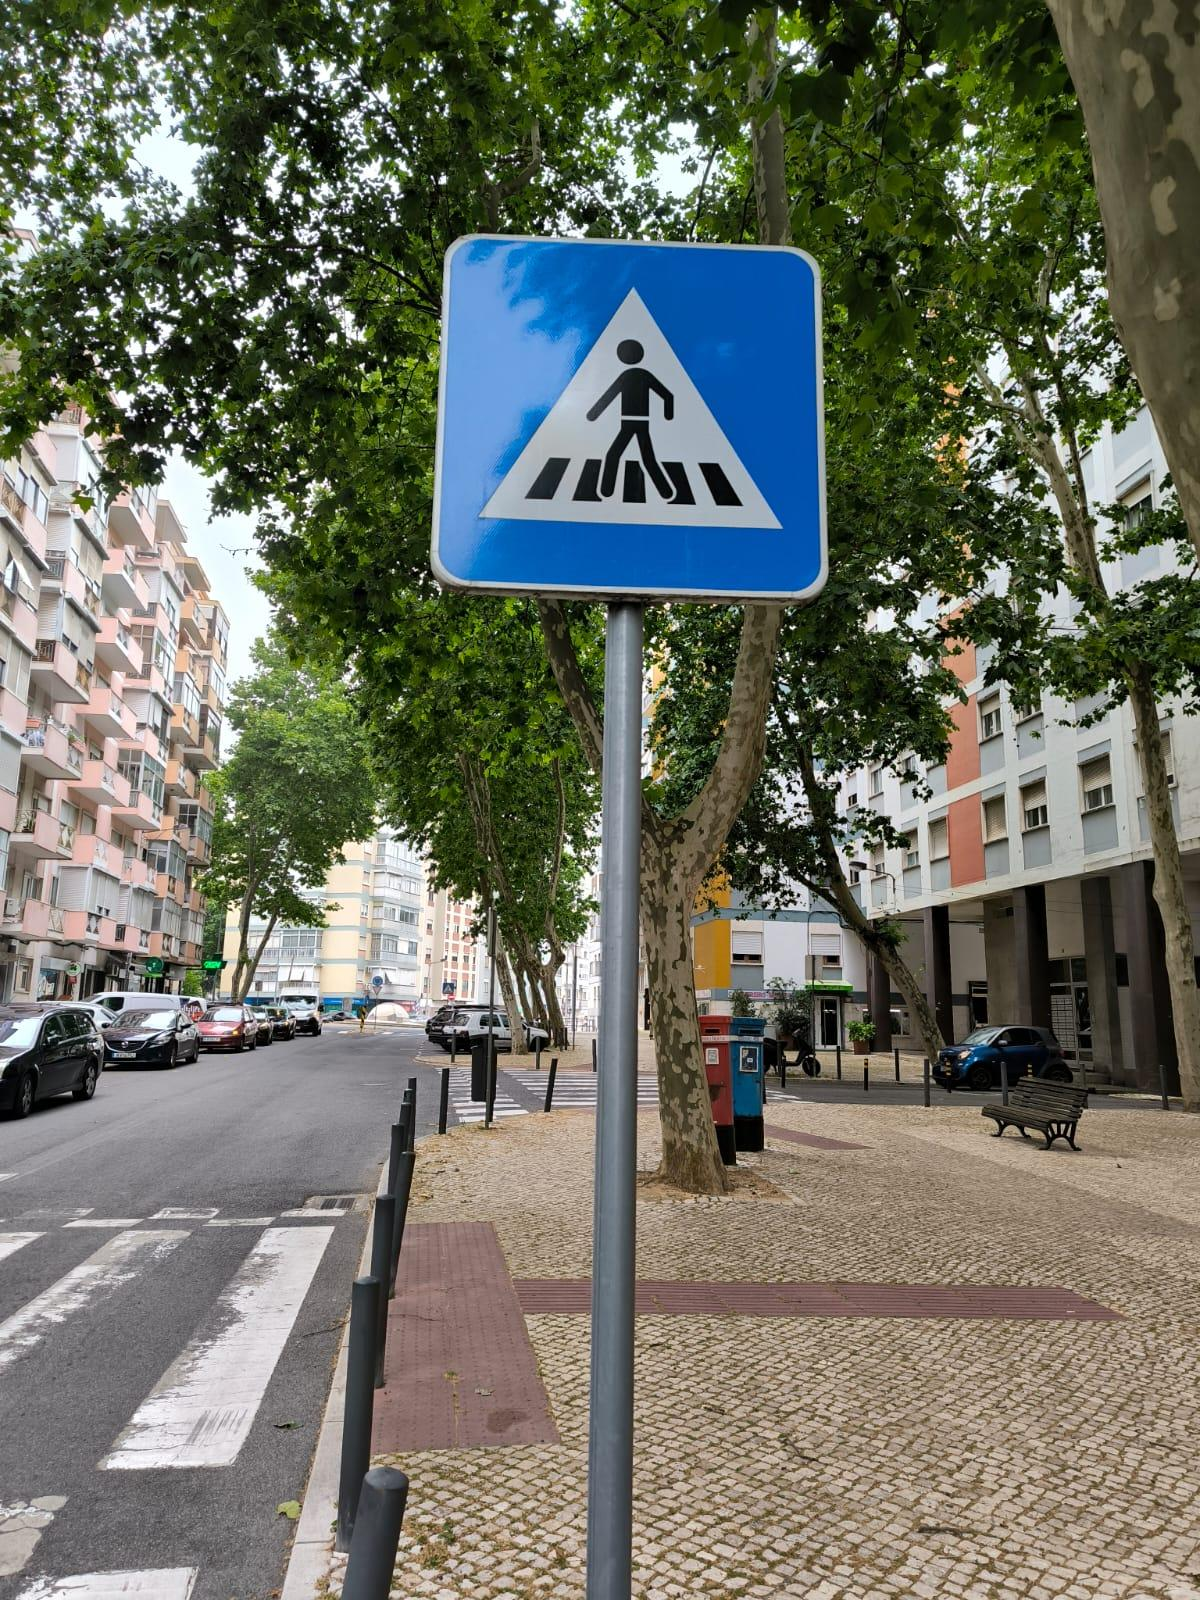Passagem para peoes: (426, 231, 846, 619)
